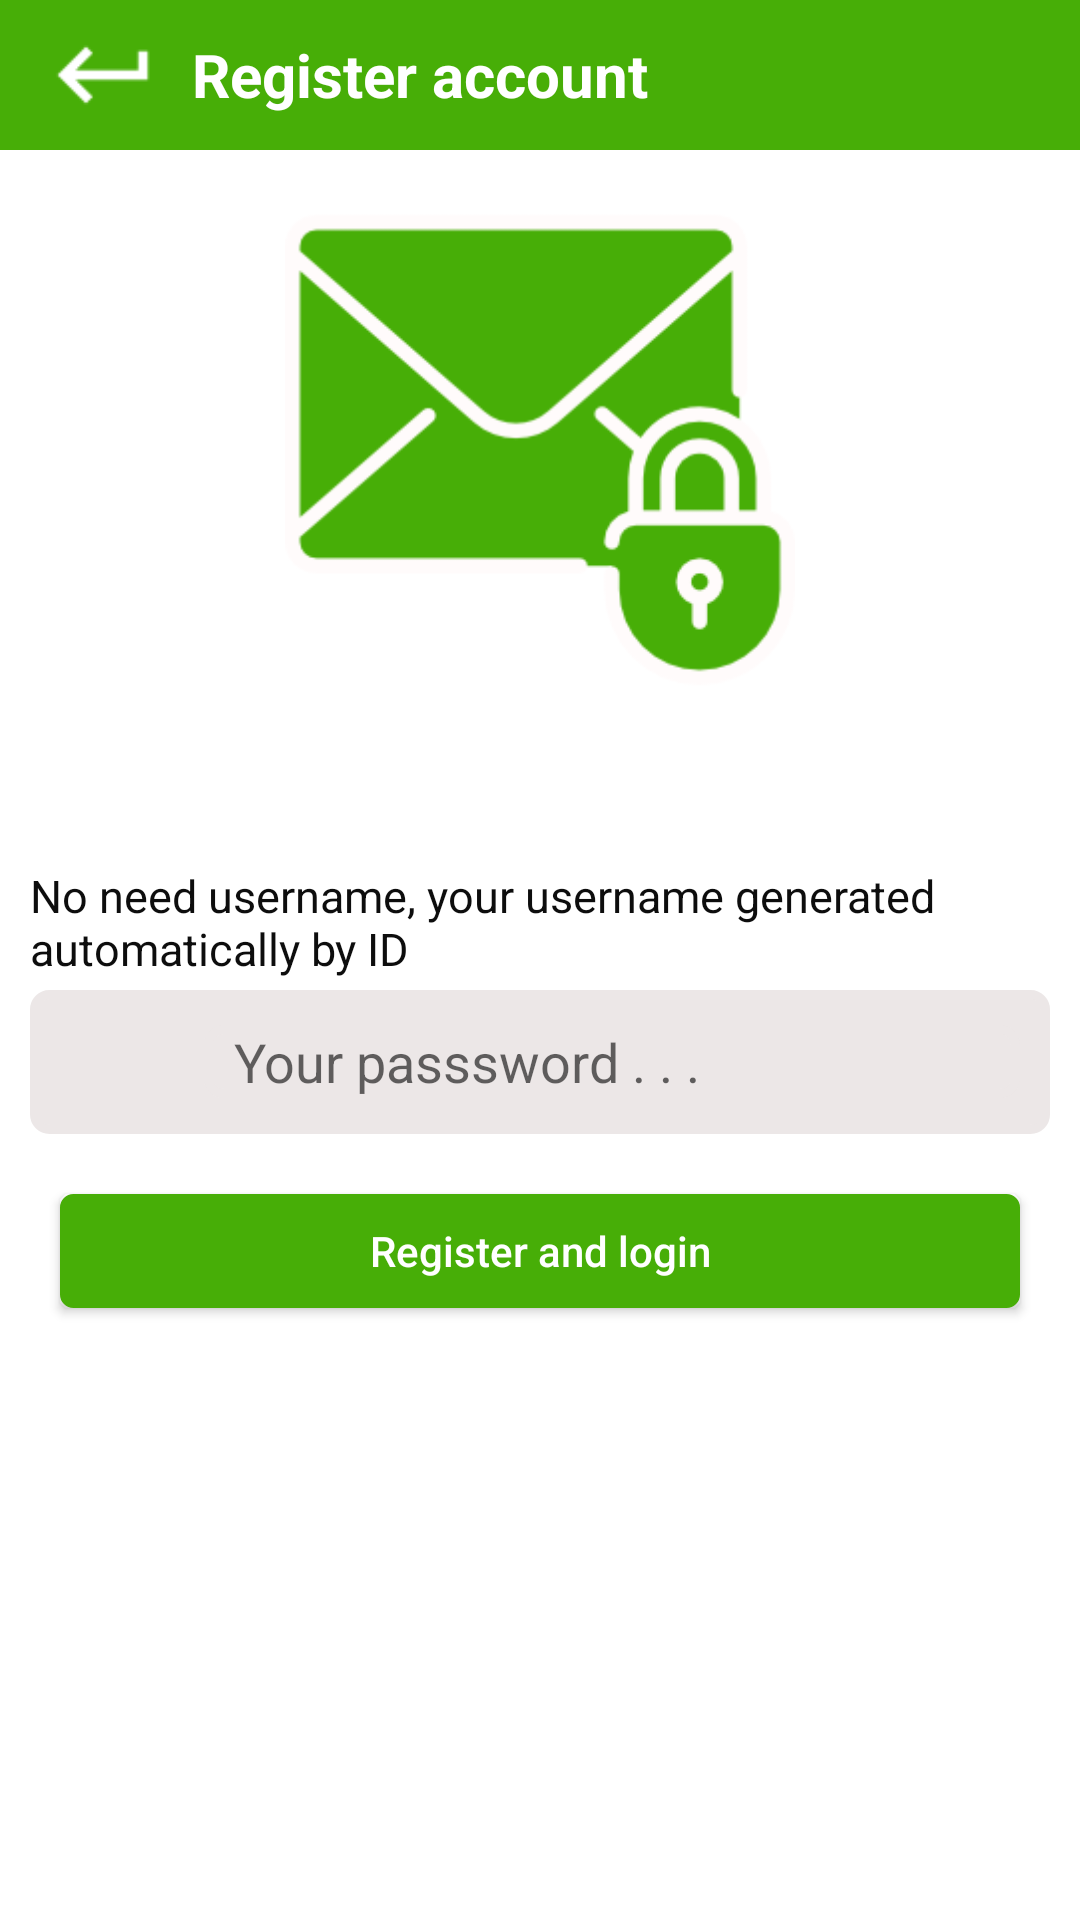

Icons on this 1080*1920 Android screen, each with its box as {"x1": x1, "y1": y1, "x2": x2, "y2": y2}:
keyboard return: {"x1": 57, "y1": 46, "x2": 150, "y2": 104}
